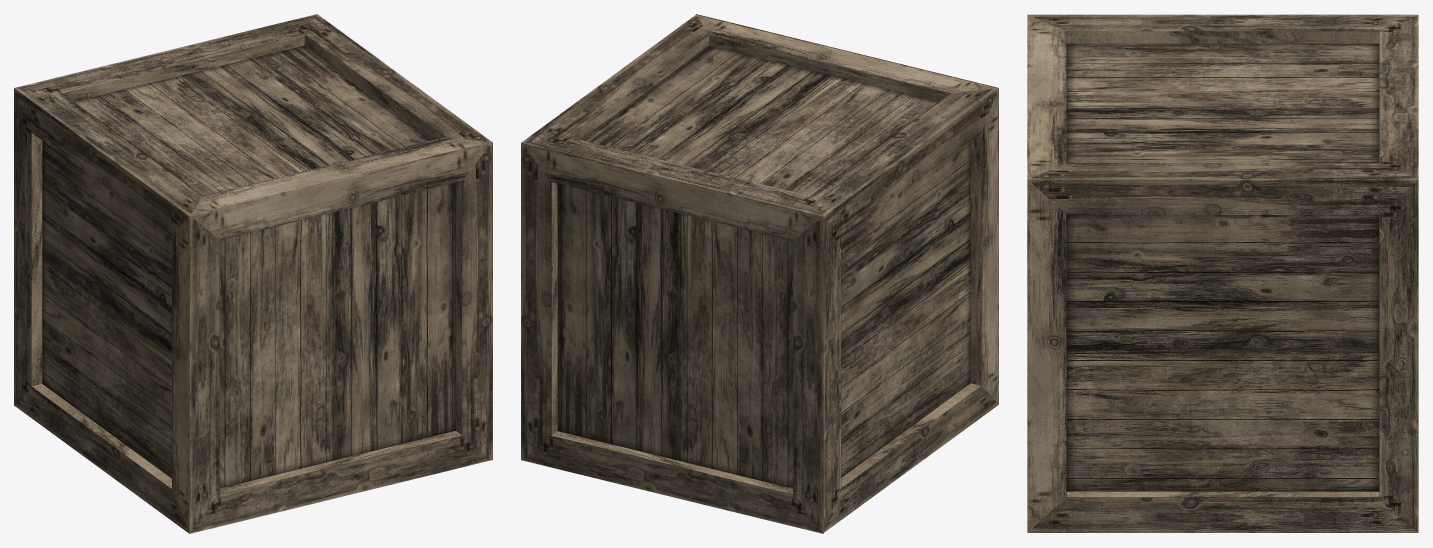
File: Wall.FBX
3 views of the same model, side by side, from view 1: azimuth 30°, elevation 25°; view 2: azimuth 150°, elevation 25°; view 3: azimuth 270°, elevation 25° (orthographic). The views are drawn at different scales.
Visible parts, largest first — view 1: Mesh2; view 2: Mesh2; view 3: Mesh2.
Boxes of the visible parts, box(x1,y1,x2,y2) form: Mesh2: box(14, 14, 492, 533); Mesh2: box(521, 14, 998, 533); Mesh2: box(1027, 14, 1418, 532).
Bounding box in the file's own units: 2 × 2.01 × 2.01.
1 material, 1 textured.
